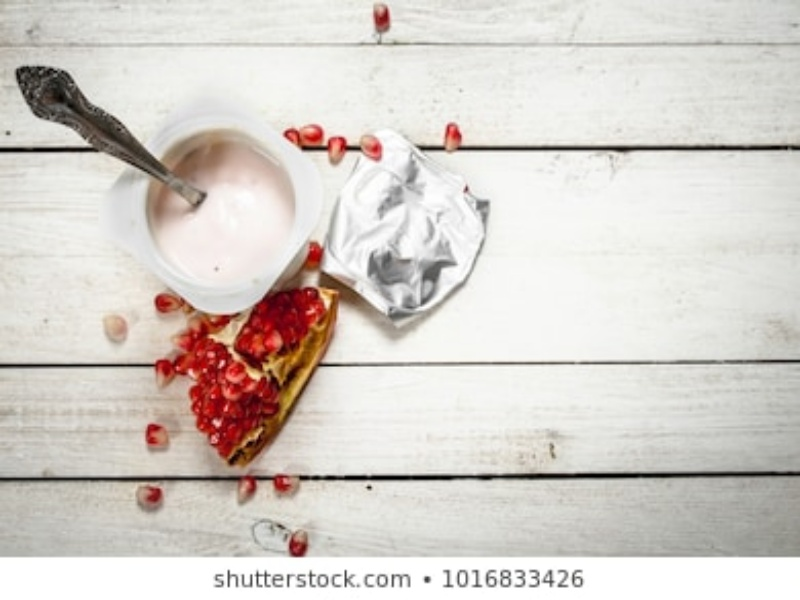yogurt-cup: (92, 95, 326, 315)
